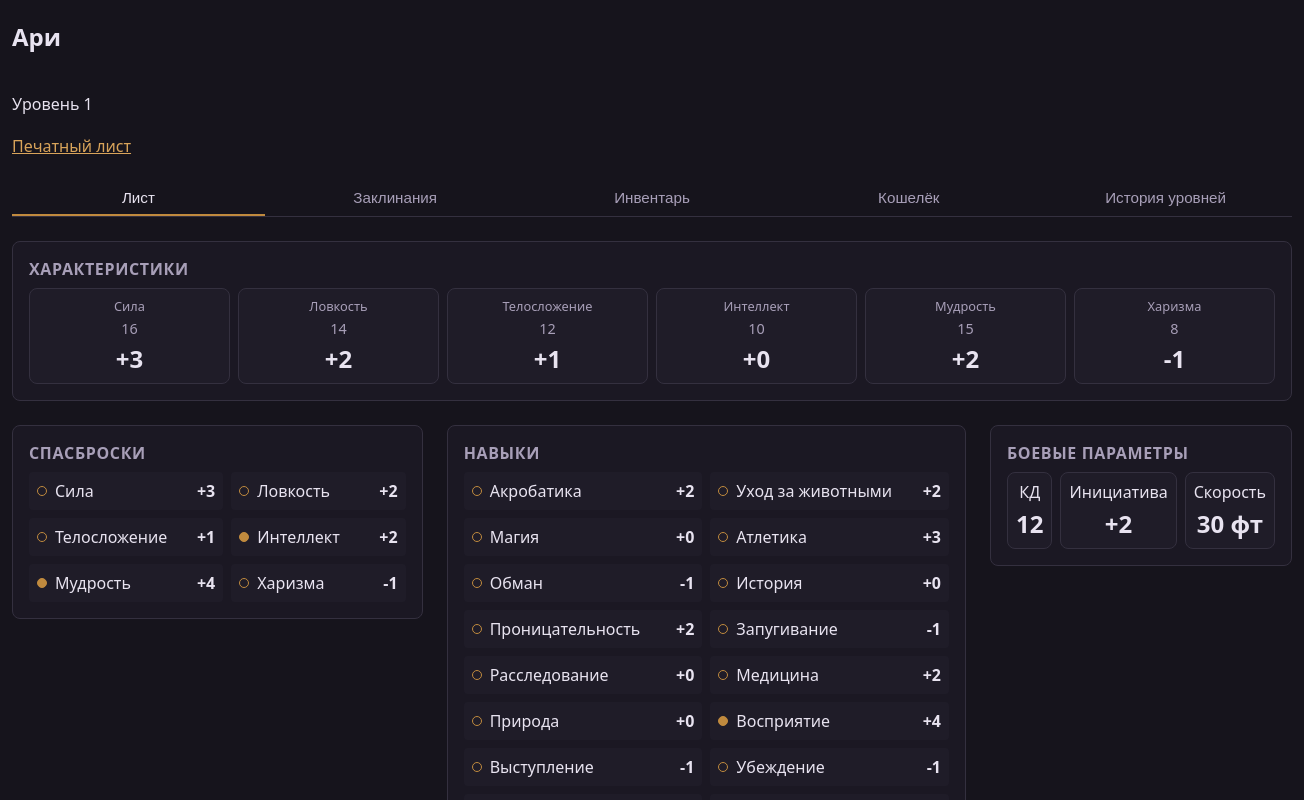
Test: CharacterSheetPage › switches to the level history tab and shows the empty state with no records
Expected: the heading "Ари" is shown, [12,20,61,53]
Click the tab "История уровней": [1166, 198] box [1039,181,1292,216]
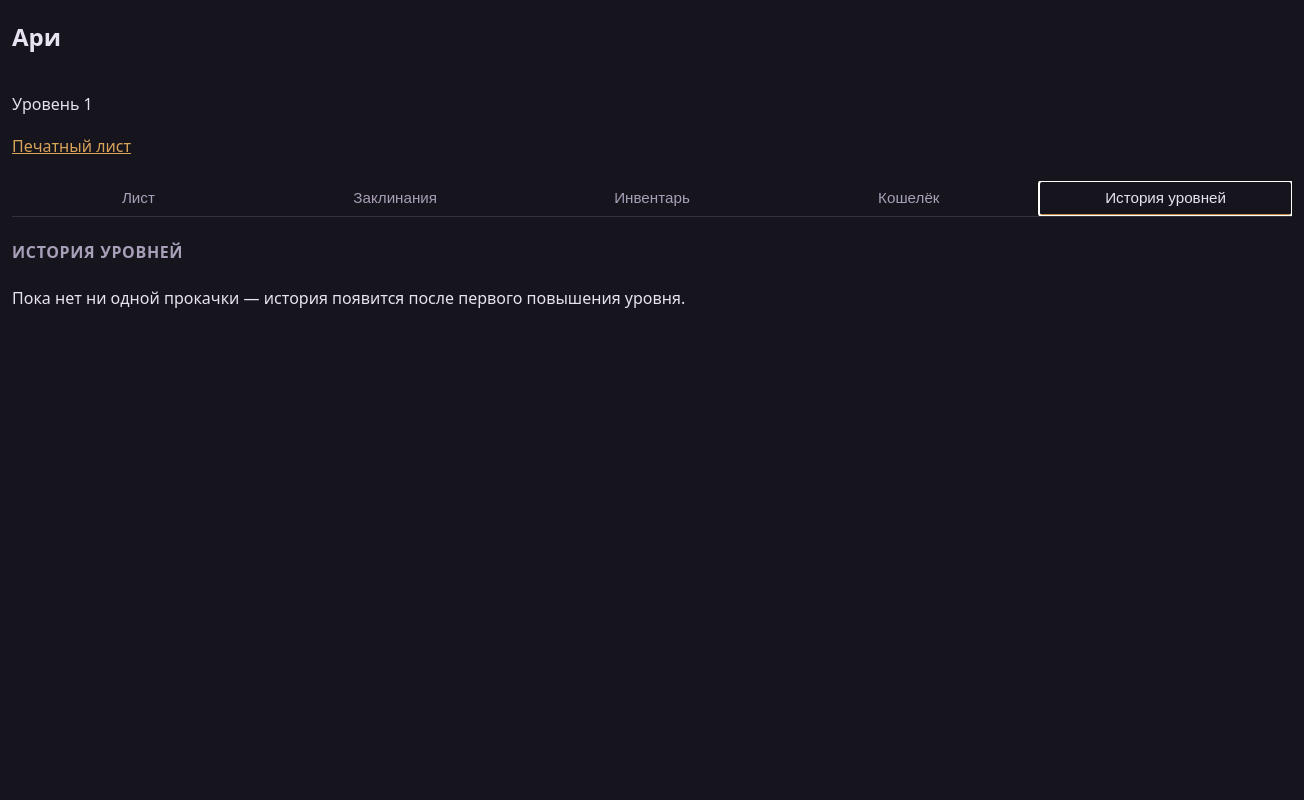
Expected: the text "Пока нет ни одной прокачки — история появится после первого повышения уровня." is shown, [12,287,685,309]
